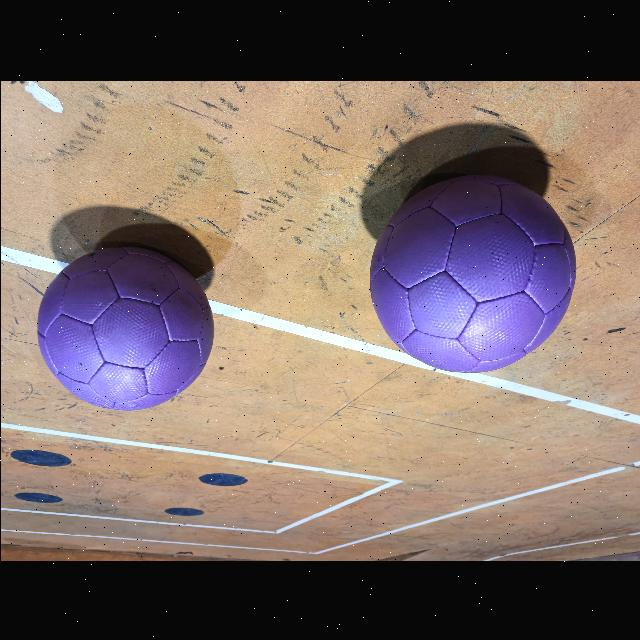P: (369, 175, 575, 372), (36, 246, 212, 409)
